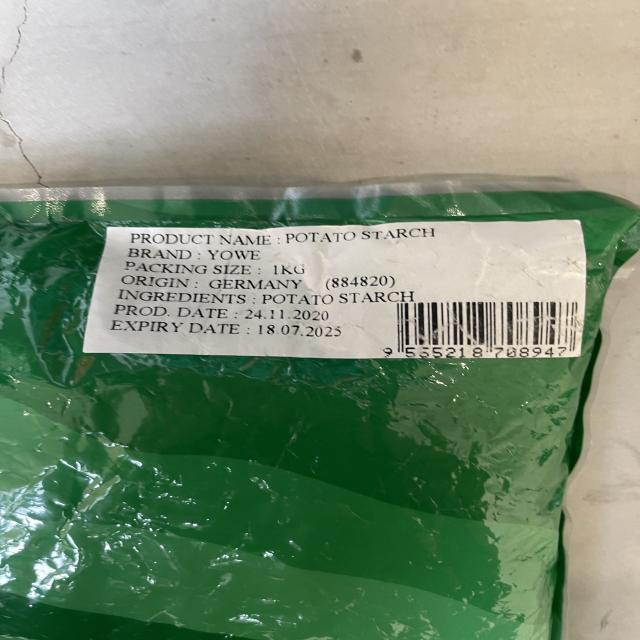object_name: (2, 186, 565, 638)
